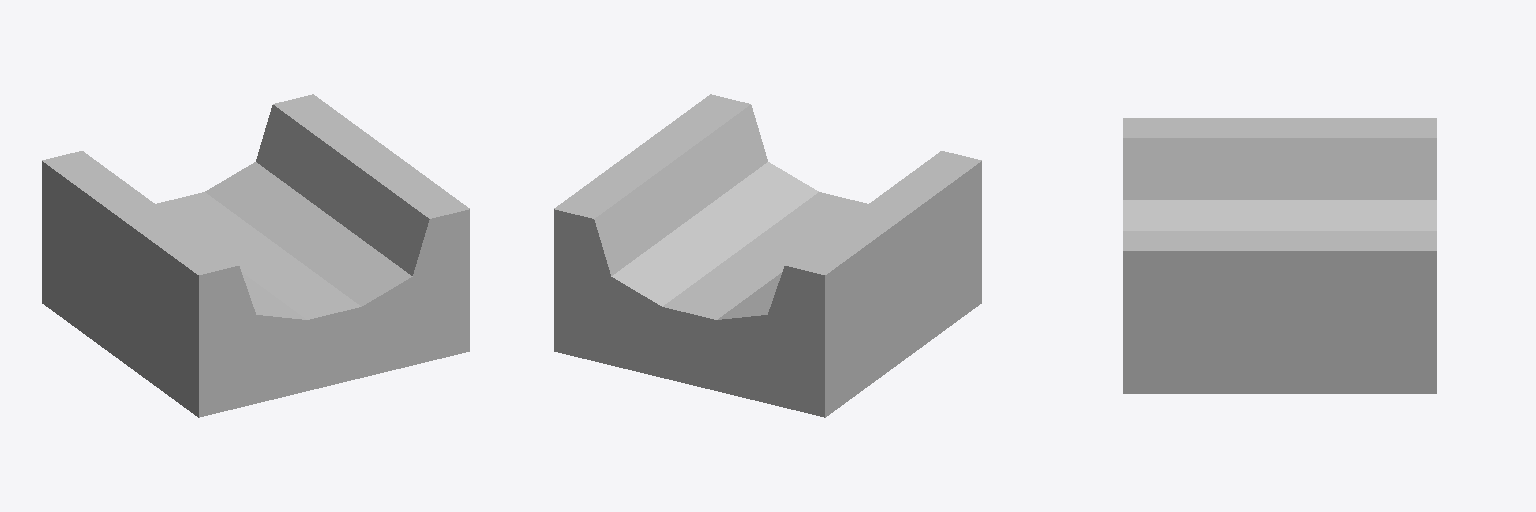
Rendered from straight.obj.
3 renders of one model, left to right at view 1: azimuth 30°, elevation 25°; view 2: azimuth 150°, elevation 25°; view 3: azimuth 270°, elevation 25°, orthographic.
Parts seen in each view (by area): view 1: straight; view 2: straight; view 3: straight.
Part boxes in pixels (x1,y1,x2,y2): straight: (42, 94, 469, 417); straight: (554, 94, 981, 417); straight: (1123, 118, 1436, 393).
Size of the model in its own units: 1 by 0.5 by 1.